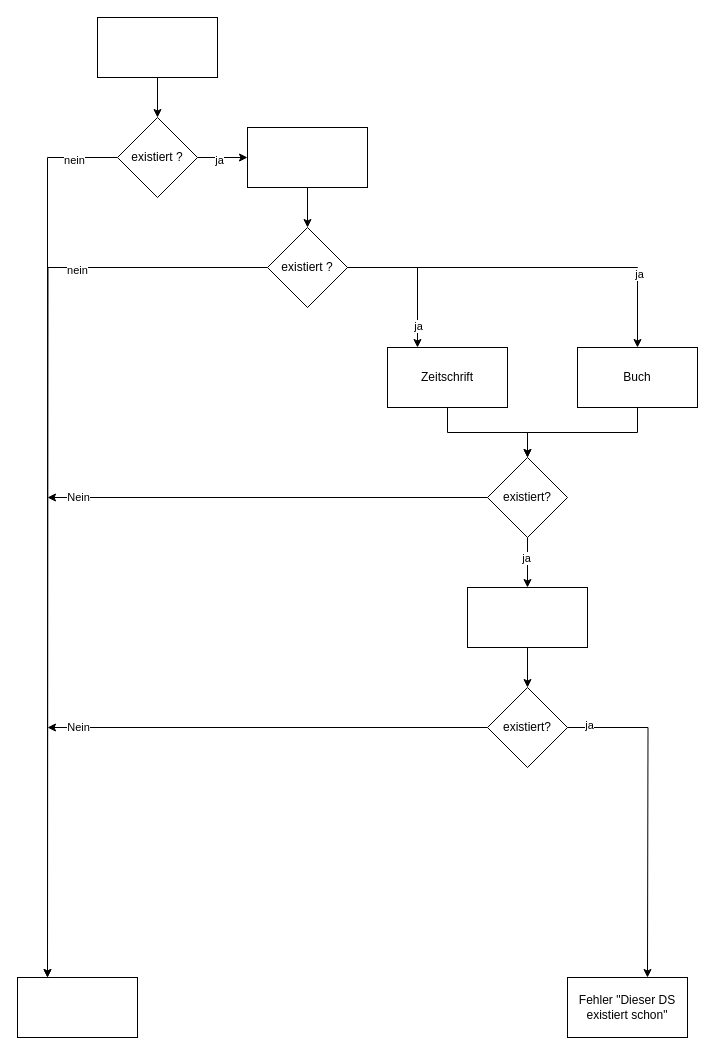
The diagram is 715 pixels wide and 1055 high, and some of its shapes have lost their labels. Each missing label, with the centre of its shape:
"Anleitung" goes at (527,617).
"Autor" goes at (157,47).
"Medium" goes at (307,157).
"neuer DS anlegen" goes at (77,1007).
